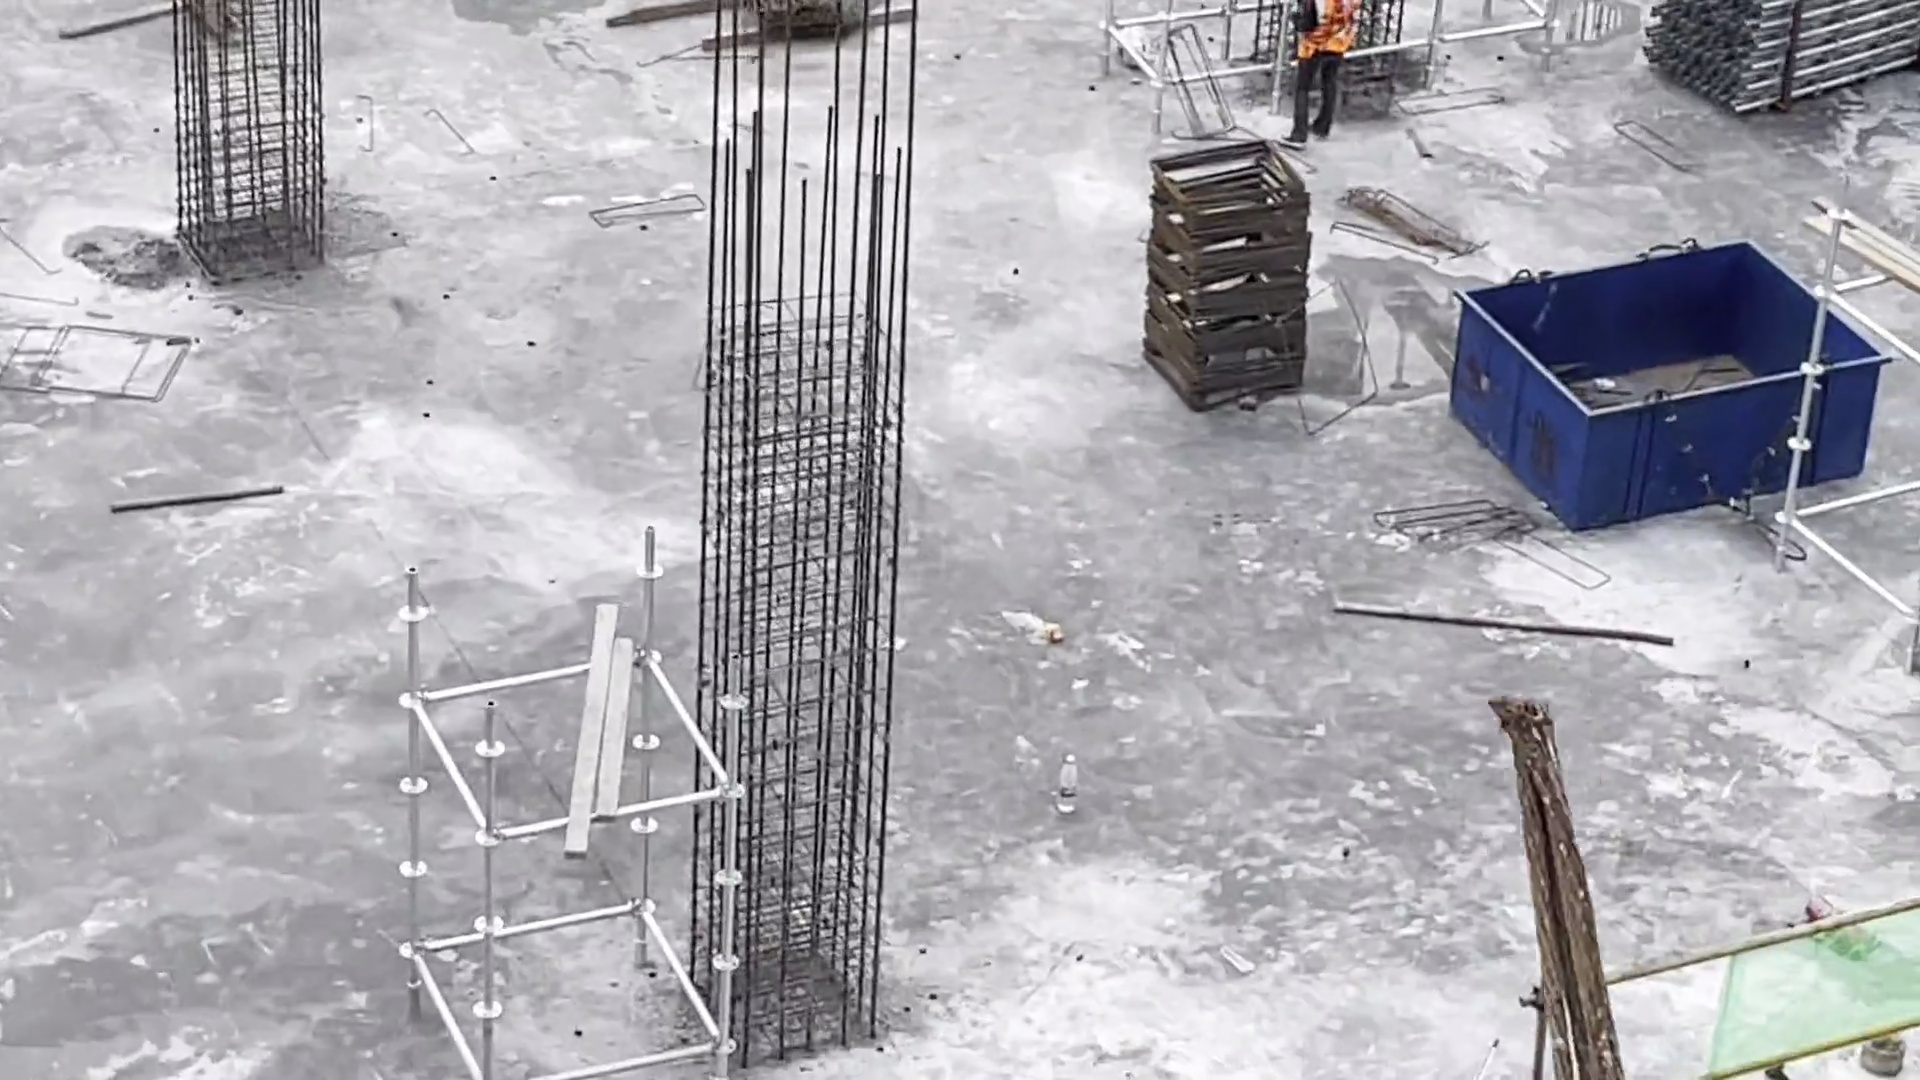hopper: (1447, 231, 1892, 530)
person: (1288, 1, 1359, 157)
scaffold: (1630, 1, 1920, 124)
vest: (1290, 1, 1362, 57)
